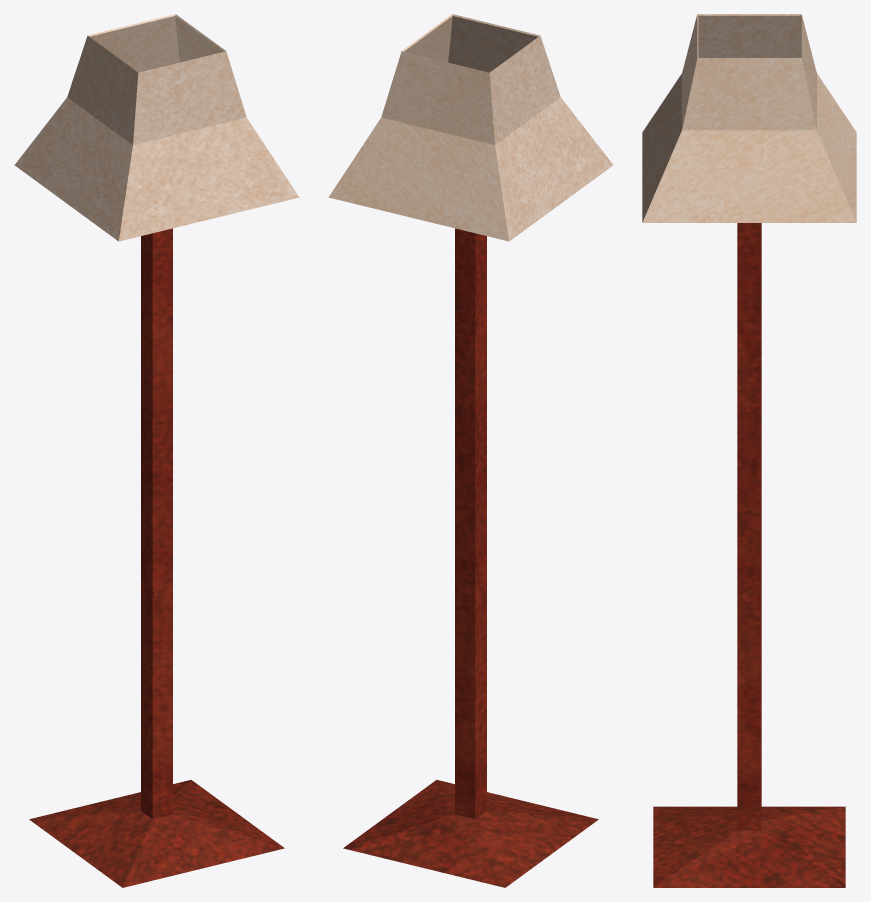
The model's file is tall_lamp_paperlike.fbx.
3 renders of one model, left to right at view 1: azimuth 30°, elevation 25°; view 2: azimuth 150°, elevation 25°; view 3: azimuth 270°, elevation 25°, orthographic. The views are drawn at different scales.
Visible parts, largest first — view 1: Cube.027; view 2: Cube.027; view 3: Cube.027.
Boxes of the visible parts, x1,y1,x2,y2 form: Cube.027: (14,14,299,887); Cube.027: (328,14,613,887); Cube.027: (642,14,856,887).
Size of the model in its own units: 178 by 744 by 178.
